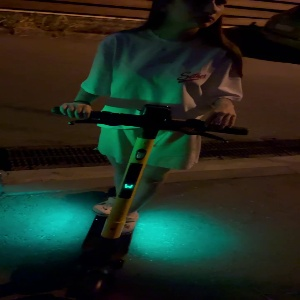human on a scooter: (45, 1, 253, 300)
